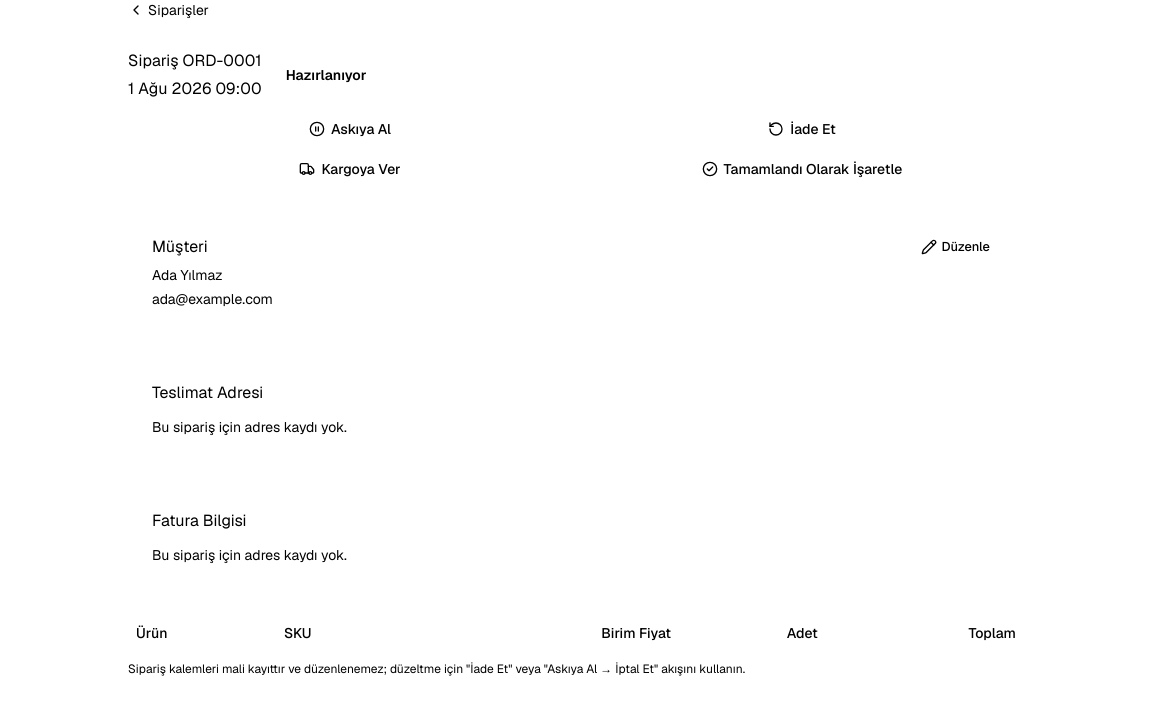
Test: AdminOrderDetailPage — SHIPPED geçişi › kargo takip no girilip gönderilince updateOrderStatus SHIPPED status'üyle çağrılır ve sipariş güncellenir
The image size is (1152, 720).
Expected: the heading "Sipariş ORD-0001" is shown, [128,49,262,73]
Click the button "Kargoya Ver" at (350, 169), box [128,153,572,185]
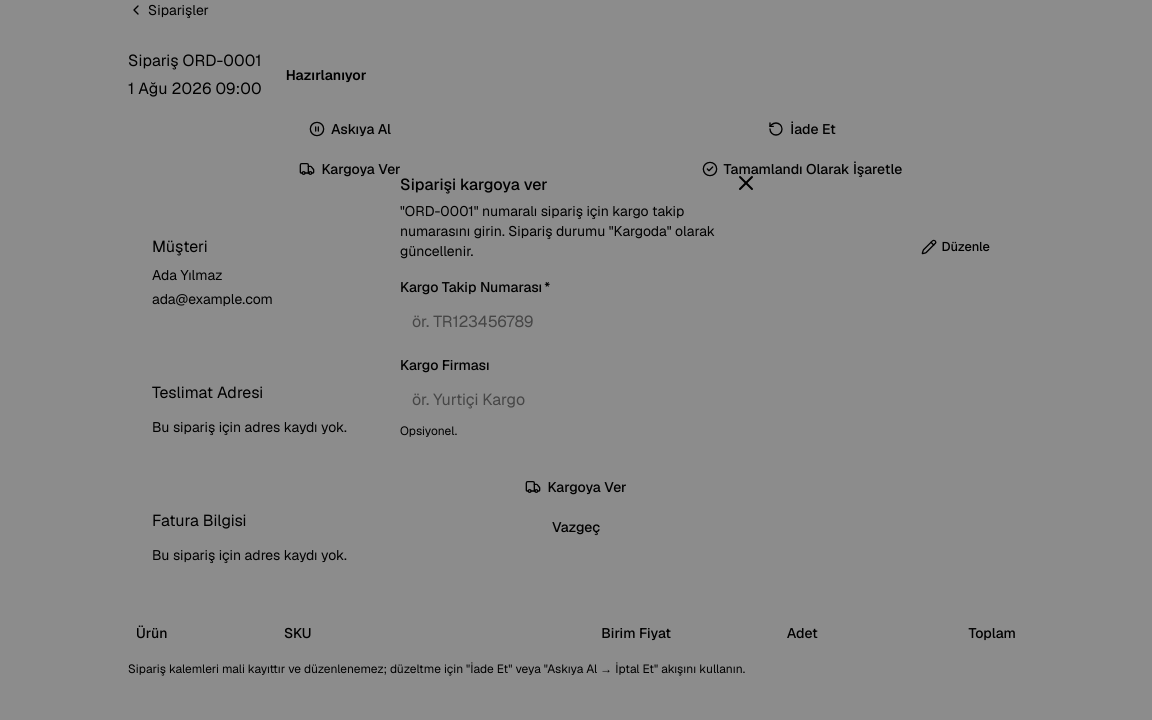
Type "TR123456789" into the field labelled "Kargo Takip Numarası*" at (576, 321), box [400,303,752,339]
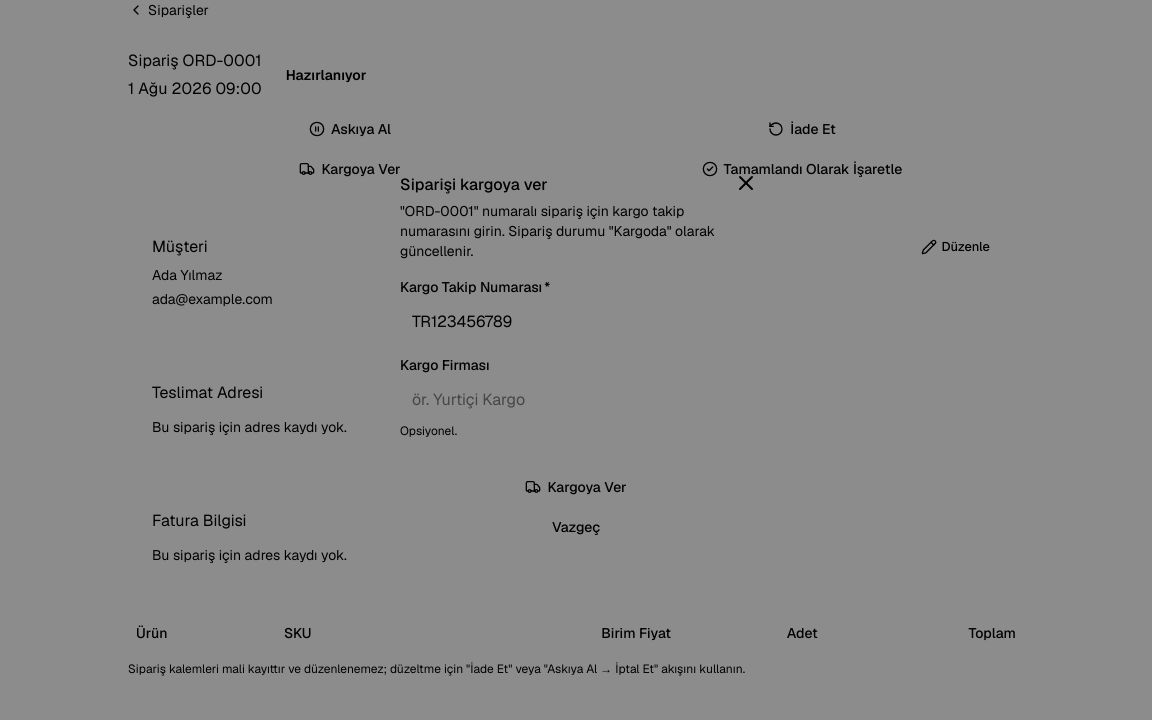
Type "Yurtiçi Kargo" into the field labelled "Kargo Firması" at (576, 399), box [400,381,752,417]
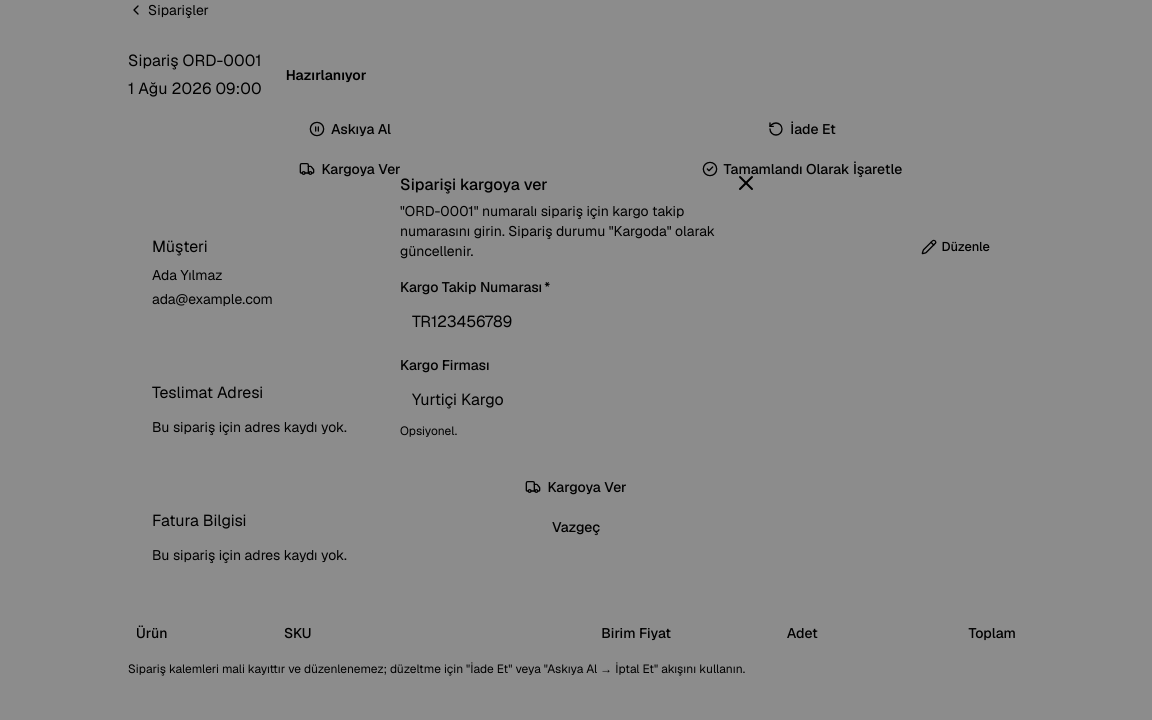
Click the button "Kargoya Ver" at (576, 487), box [400,471,752,503]
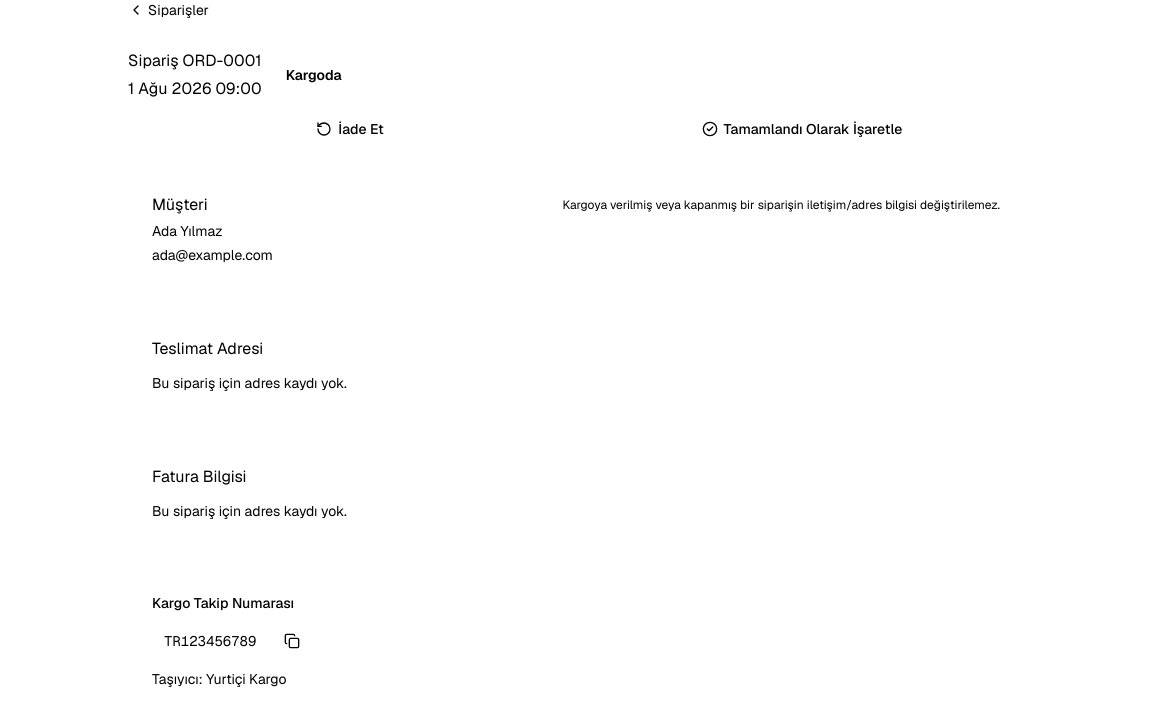
Now the text "Kargo Takip Numarası" is shown, box [152,594,294,612]
Now the text "TR123456789" is shown, box [164,632,256,650]
